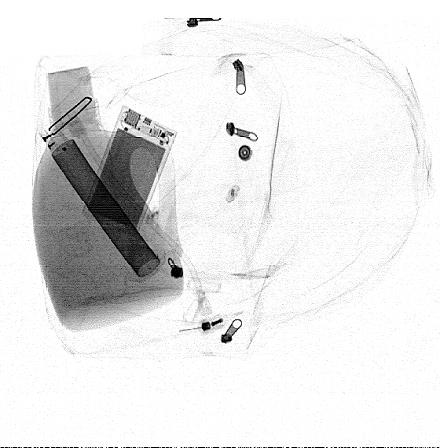Powerbank: (80, 105, 177, 232)
